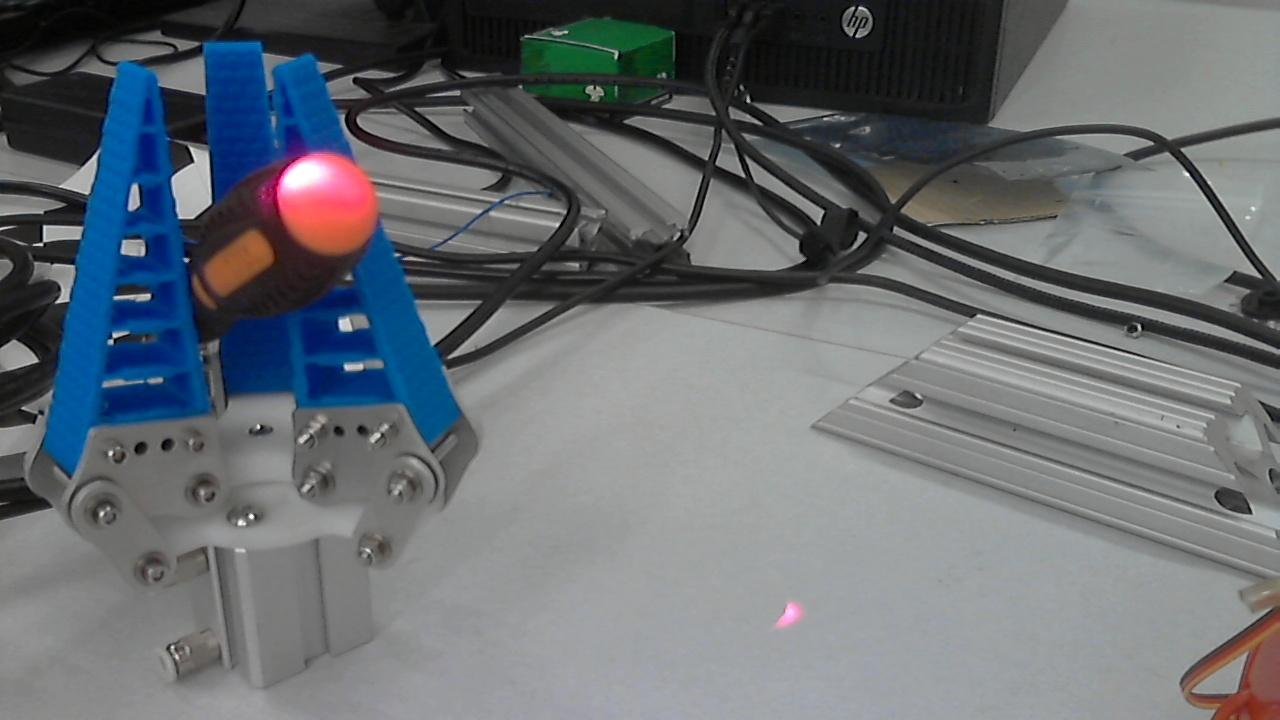Object precision screwdriver - Material rubber - Color black and orange - Pdfnam: (231, 155, 376, 238)
